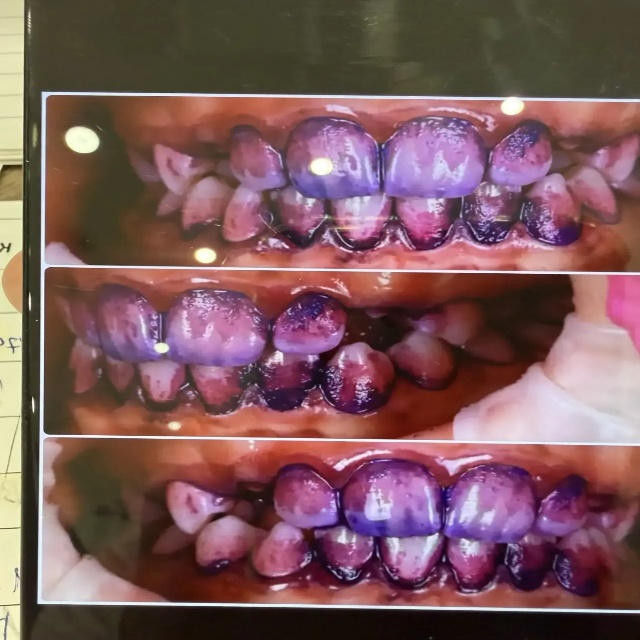clean_tooth: (0, 287, 21, 639), (0, 0, 23, 166), (0, 200, 22, 273)
plaque: (240, 117, 577, 249), (275, 465, 613, 594), (87, 291, 364, 406), (326, 364, 370, 411), (177, 487, 225, 526)
